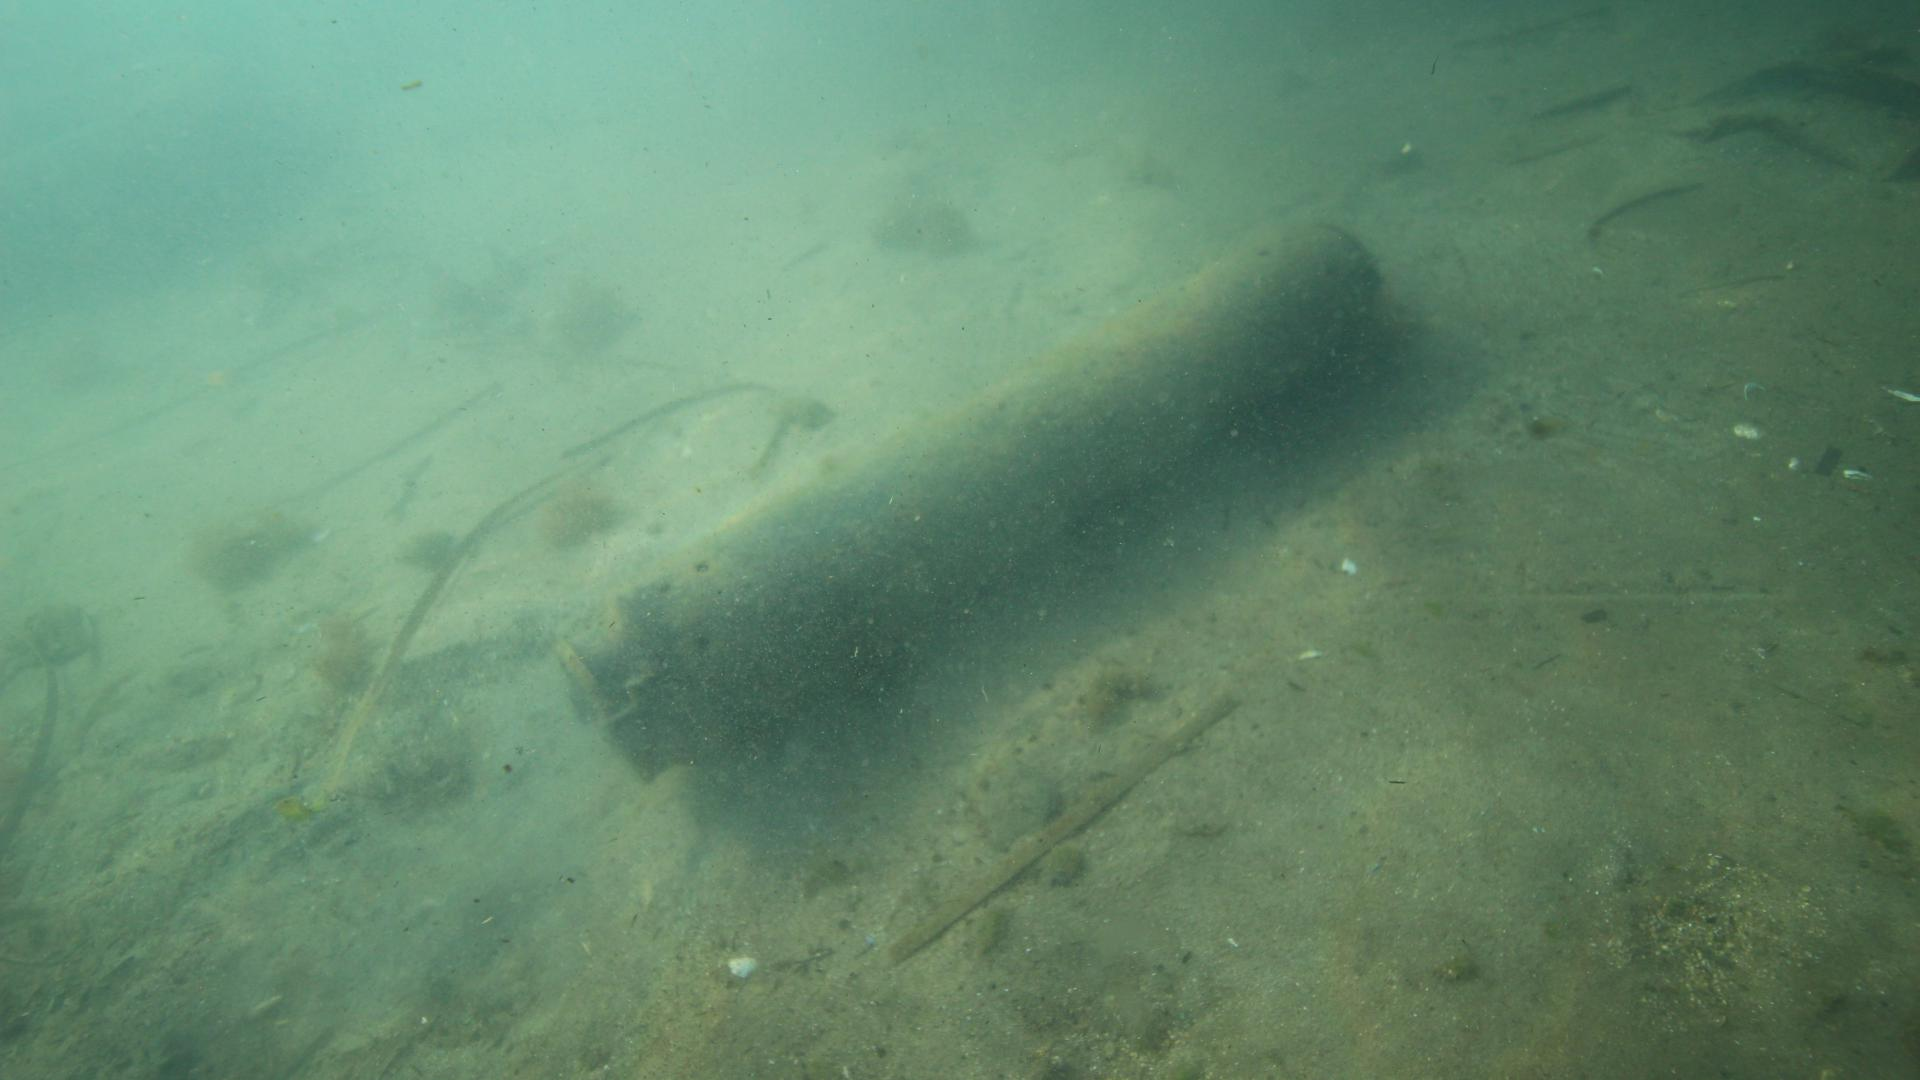eel fish trap: (558, 225, 1393, 783)
